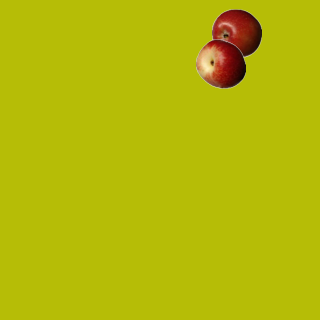Apple Braeburn: (211, 8, 261, 58)
Nectarine: (195, 38, 245, 88)
